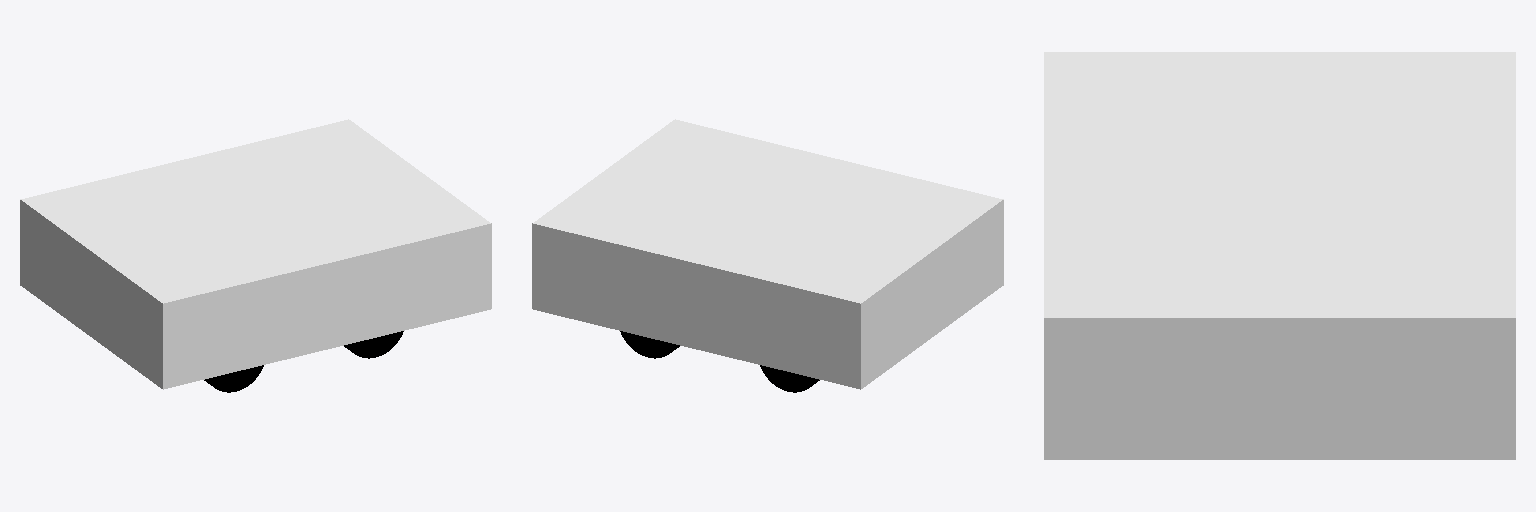
URDF robot description (wheeltec_robot):
<?xml version="1.0" ?>
<robot name="wheeltec_robot">

    <link name="base_link">
        <visual>
            <origin xyz=" 0 0 0.0975" rpy="0 0 0" />
            <geometry>
                <box size="0.40 0.30 0.10"/>
            </geometry>
            <material name="white">
                <color rgba="1 1 1 1"/>
            </material>
        </visual>
        <collision>
        <origin
            xyz="0 0 0"
            rpy="0 0 0" />
        <geometry>
           <box size="0.40 0.30 0.10"/>
        </geometry>
        </collision>        
    </link>   

    <joint name="left_wheel_joint" type="continuous">
        <origin xyz="-0.085 0.09 0.0375" rpy="1.57 0 0"/>
        <parent link="base_link"/>
        <child link="left_wheel_link"/>
        <axis xyz="0 1 0"/>
    </joint>

    <link name="left_wheel_link">
        <visual>
            <origin xyz="0 0 0" rpy="0 0 0" />
            <geometry>
                <cylinder radius="0.0375" length = "0.03"/>
            </geometry>
            <material name="black">
                <color rgba="0 0 0 1"/>
            </material>
        </visual>
    </link>

    <joint name="right_wheel_joint" type="continuous">
        <origin xyz="-0.085 -0.09 0.0375" rpy="1.57 0 0"/>
        <parent link="base_link"/>
        <child link="right_wheel_link"/>
        <axis xyz="0 1 0"/>
    </joint>

    <link name="right_wheel_link">
        <visual>
            <origin xyz="0 0 0" rpy="0 0 0" />
            <geometry>
                <cylinder radius="0.0375" length = "0.03"/>
            </geometry>
            <material name="black">
                <color rgba="0 0 0 1"/>
            </material>
        </visual>
    </link>

      <joint name="left_front_joint" type="continuous">
        <origin xyz="0.085 0.09 0.0375" rpy="1.57 0 0"/>
        <parent link="base_link"/>
        <child link="left_front_link"/>
        <axis xyz="0 1 0"/>
    </joint>

    <link name="left_front_link">
        <visual>
            <origin xyz="0 0 0" rpy="0 0 0" />
            <geometry>
                <cylinder radius="0.0375" length = "0.03"/>
            </geometry>
            <material name="black">
                <color rgba="0 0 0 1"/>
            </material>
        </visual>
    </link>

    <joint name="right_front_joint" type="continuous">
        <origin xyz="0.085 -0.09 0.0375" rpy="1.57 0 0"/>
        <parent link="base_link"/>
        <child link="right_front_link"/>
        <axis xyz="0 1 0"/>
    </joint>

    <link name="right_front_link">
        <visual>
            <origin xyz="0 0 0" rpy="0 0 0" />
            <geometry>
                <cylinder radius="0.0375" length = "0.03"/>
            </geometry>
            <material name="black">
                <color rgba="0 0 0 1"/>
            </material>
        </visual>
    </link>


</robot>

--- Facts derived from the render (not from the file) ---
The picture shows the robot from 3 angles, left to right: view 1: azimuth 30°, elevation 25°; view 2: azimuth 150°, elevation 25°; view 3: azimuth 270°, elevation 25°; orthographic projection.
Robot: wheeltec_robot — 5 links, 4 joints (4 continuous); root link base_link; default pose: all joints at 0.
Visible links, largest first — view 1: base_link, right_wheel_link, right_front_link; view 2: base_link, left_wheel_link, left_front_link; view 3: base_link.
Link boxes in pixels (x1,y1,x2,y2): base_link: (20,119,491,389); right_wheel_link: (204,365,263,392); right_front_link: (344,331,403,358); base_link: (532,119,1003,389); left_wheel_link: (760,365,819,392); left_front_link: (620,331,679,358); base_link: (1044,52,1515,459).
Bounding box of the posed robot: 0.4 × 0.3 × 0.1475 m (x, y, z).
Geometry: primitives only (box / cylinder / sphere), no mesh files.